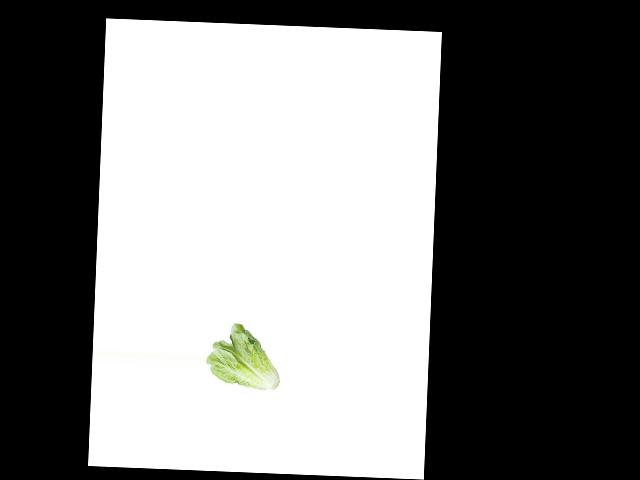lettuce: (203, 319, 281, 393)
